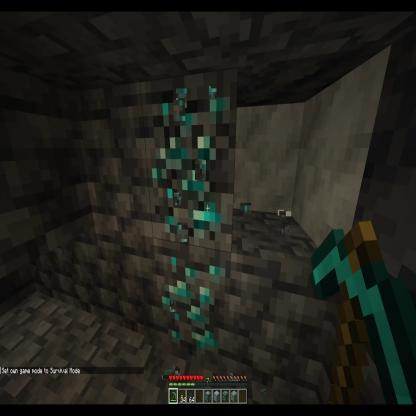diamond ore: (152, 69, 243, 243)
